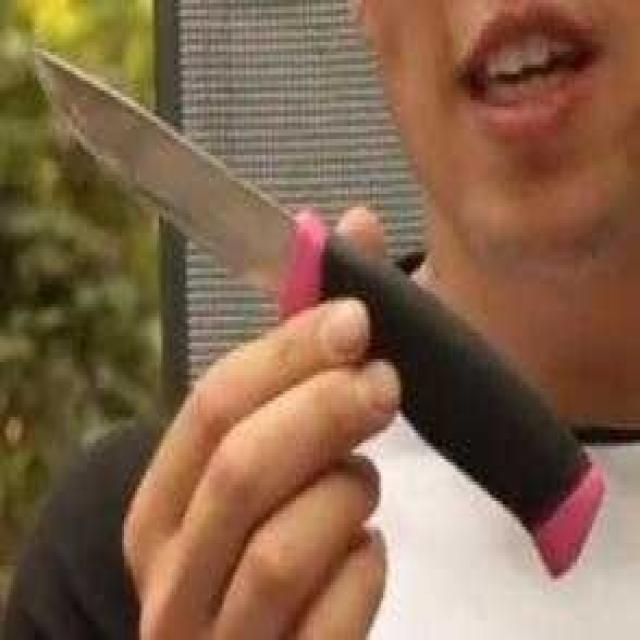Knife: (28, 31, 607, 587)
